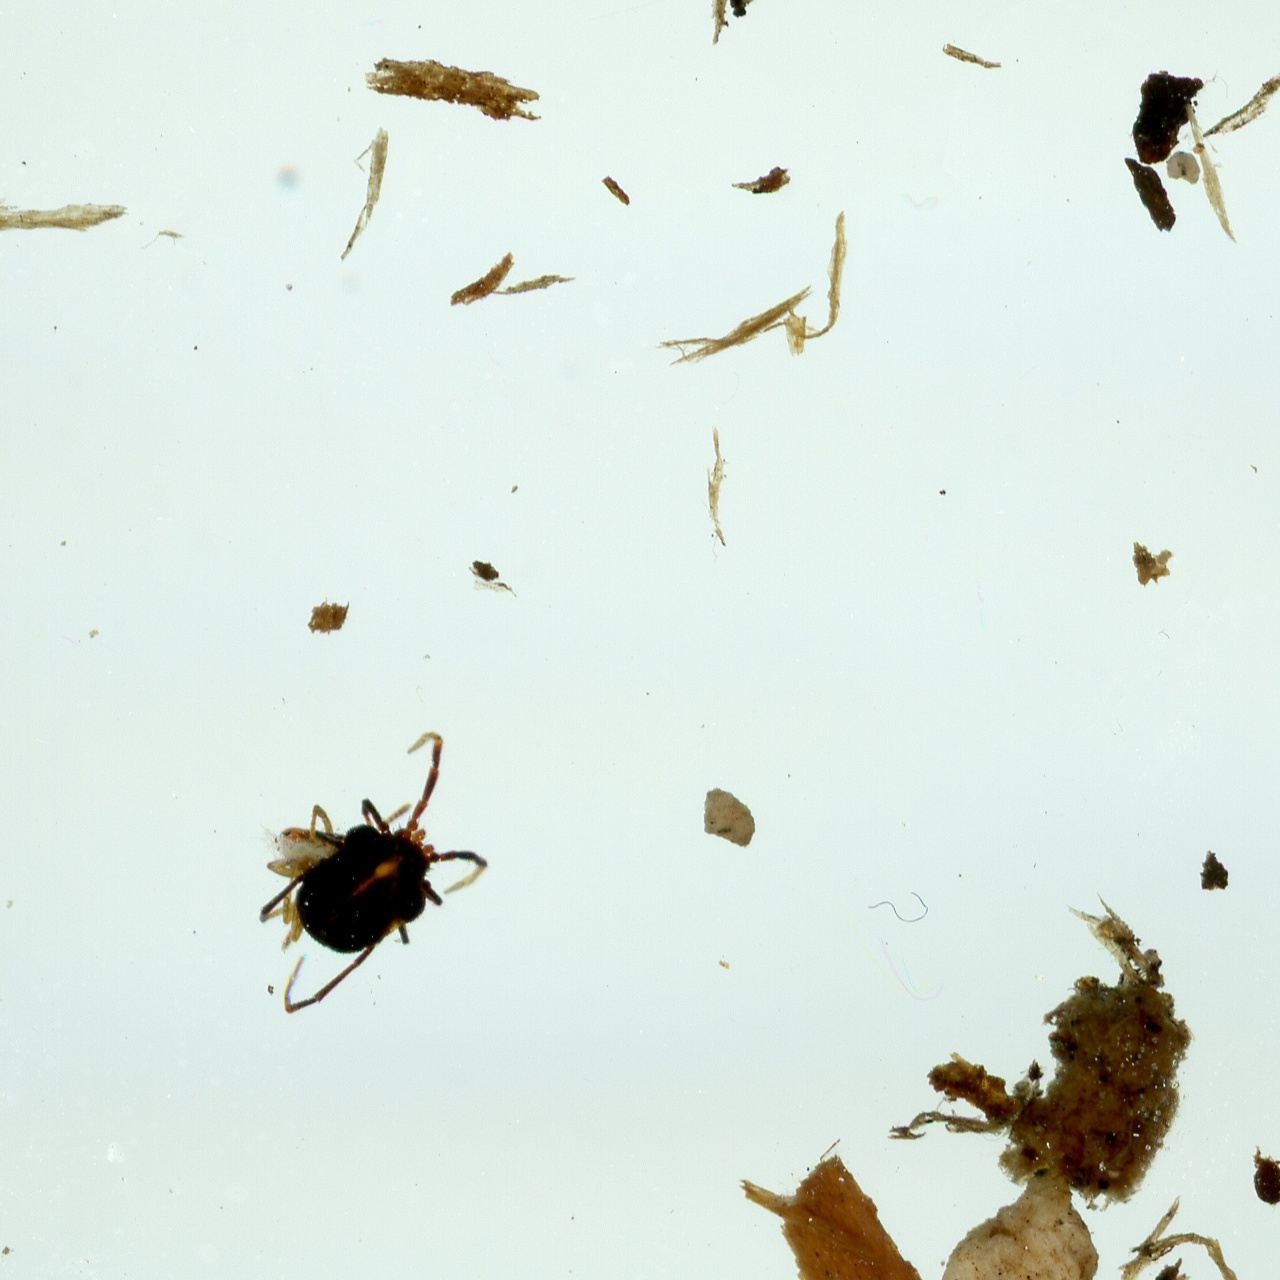arthropod: (253, 723, 492, 1021), (1251, 1143, 1280, 1206)
